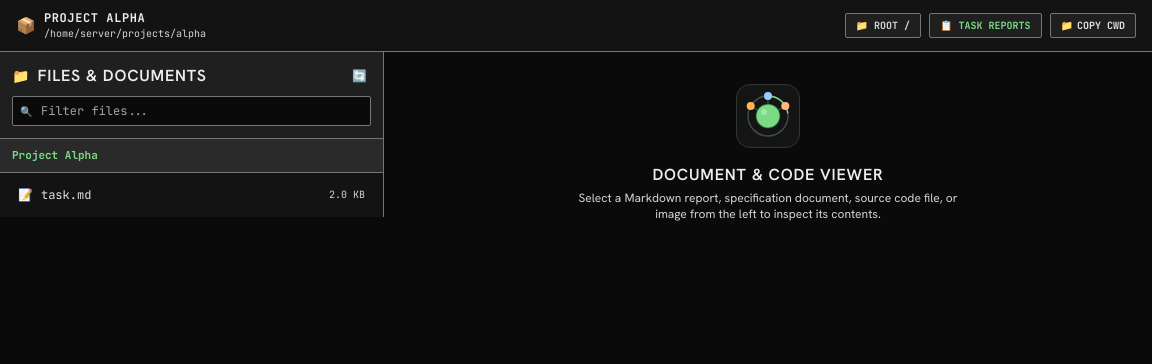
Scenario: ProjectExplorer Component › keeps every viewer action reachable on narrow viewports (wraps, no clipping)
Click the text "task.md".
click(66, 194)  # box [41,186,91,202]
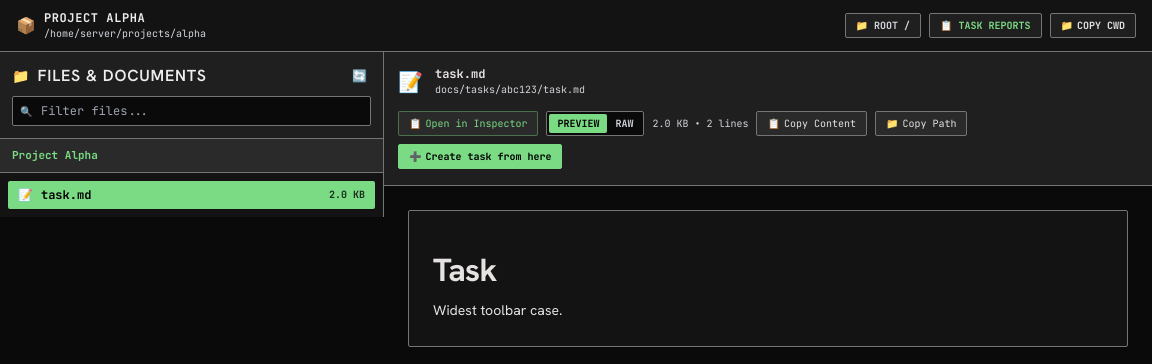
Result: the text "Widest toolbar case." is shown at [433,301,562,319]
Result: the button "📋 Open in Inspector" is shown at [398,111,538,136]
Result: the button "Preview" is shown at [550,114,608,133]
